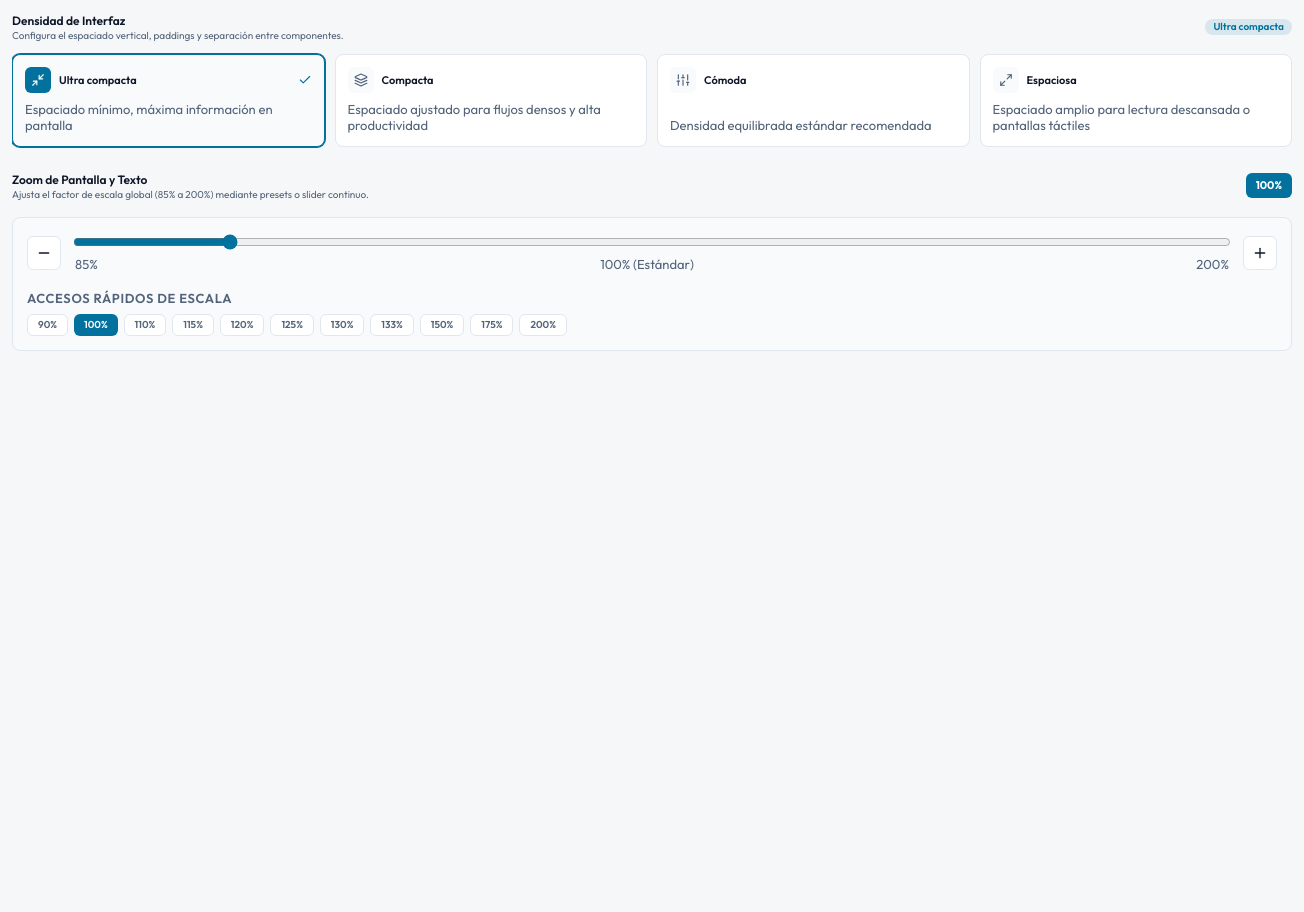
Test case: DensityZoomSelector Component › updates zoom percentage via quick presets and reflects in style properties
The width and height of the screenshot is (1304, 912).
Click the button named "Establecer zoom a 125%" at (292,325), box [270,314,314,336]
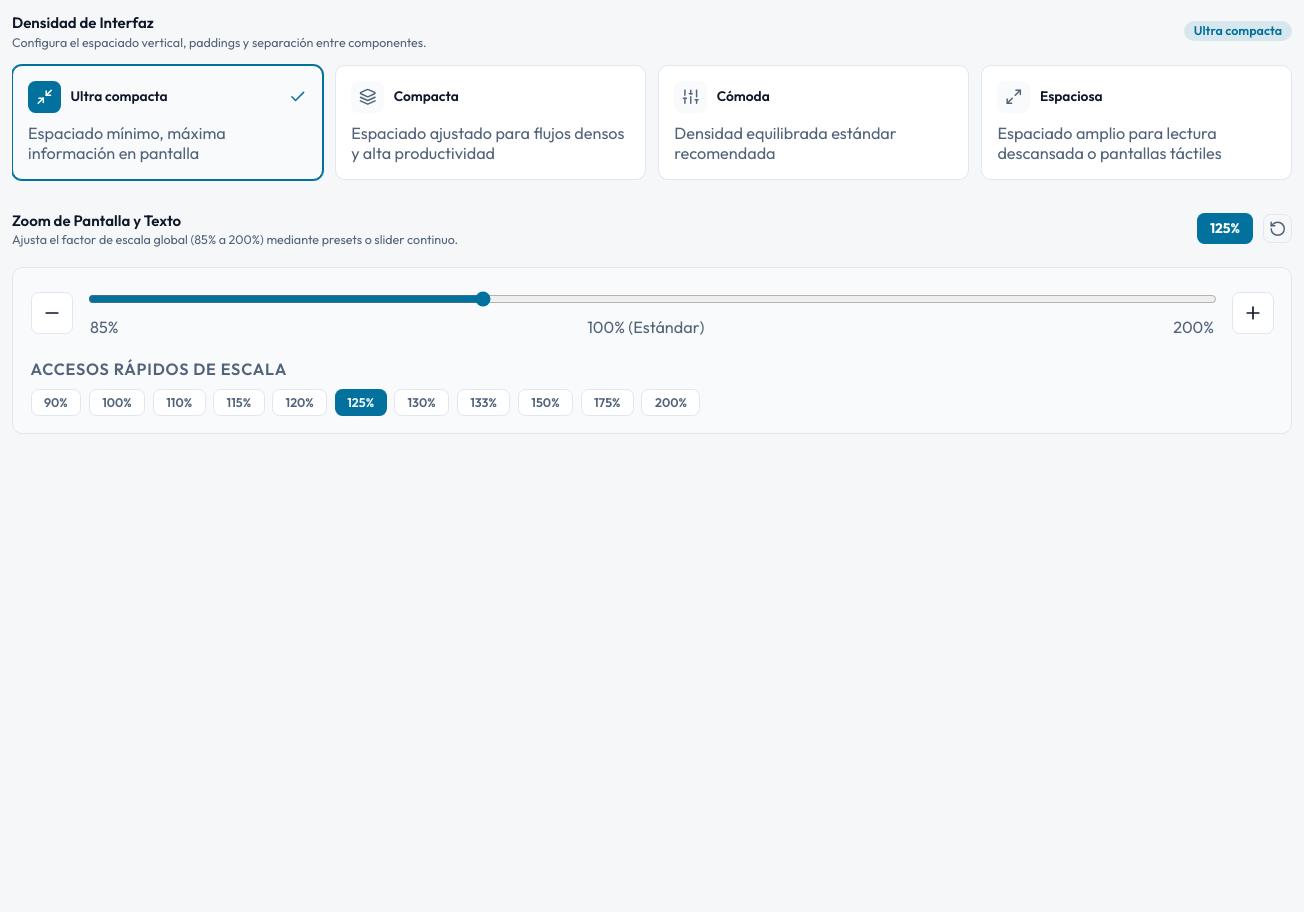
Expected: the text with test id "zoom-percentage-badge" reads "125%", [1197,213,1252,244]
Click the button named "Establecer zoom a 200%" at (671,402), box [642,389,700,416]
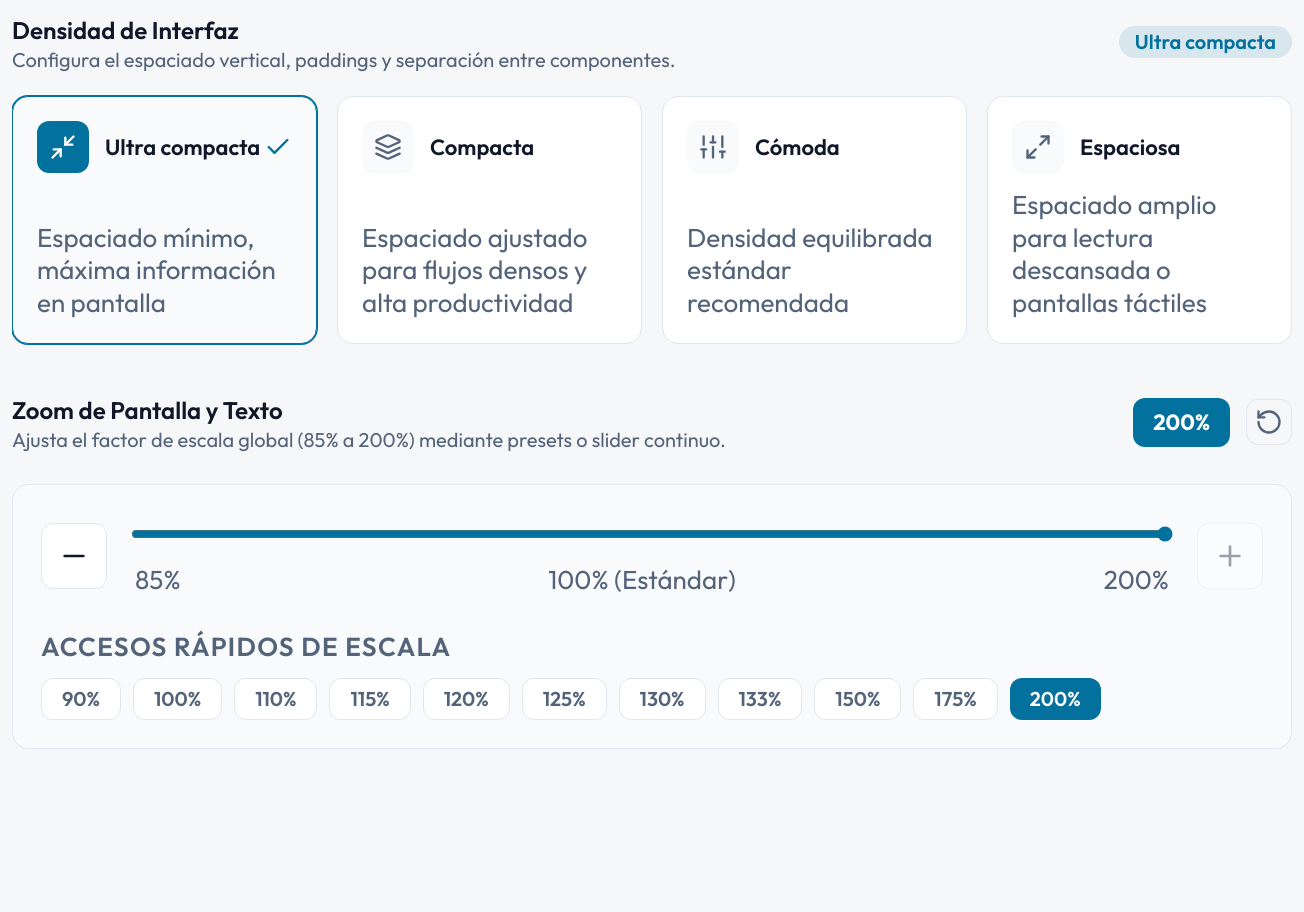
Expected: the text with test id "zoom-percentage-badge" reads "200%", [1133,398,1230,446]
